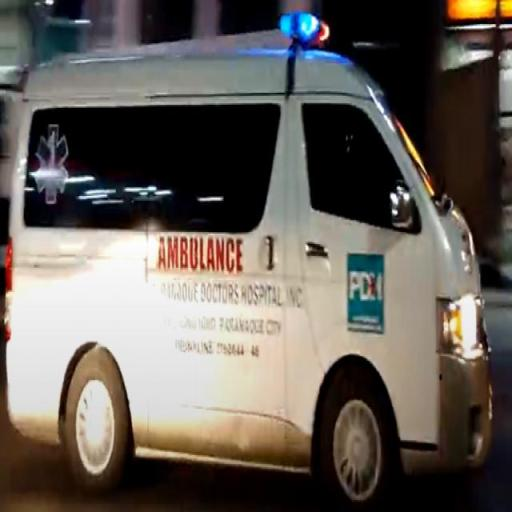Police car: (6, 5, 498, 512)
